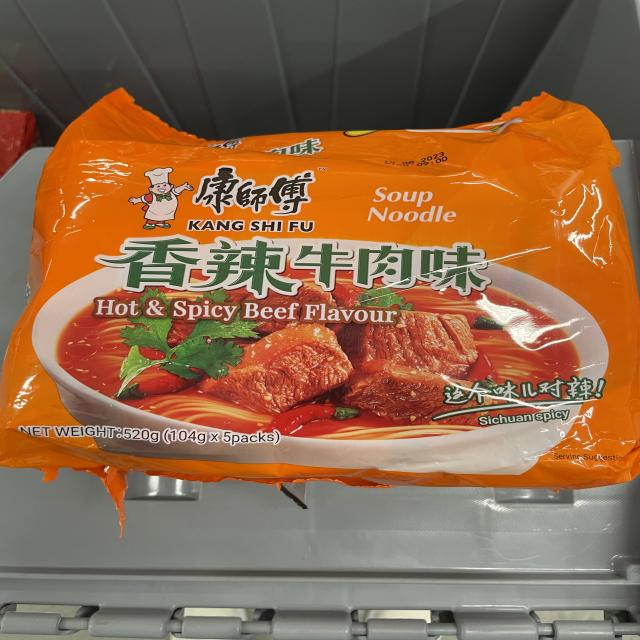object_name: (45, 126, 629, 484)
